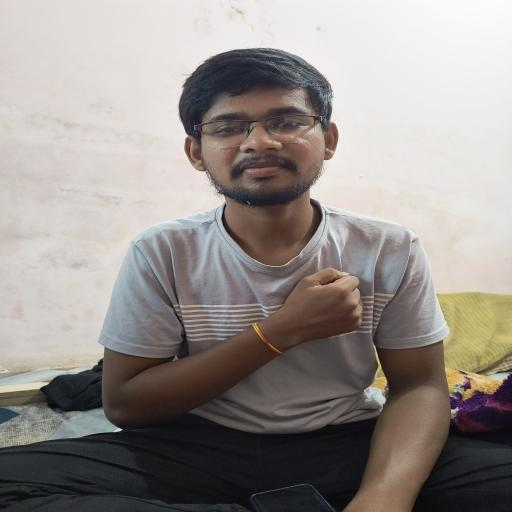Understood: (83, 197, 398, 441)
